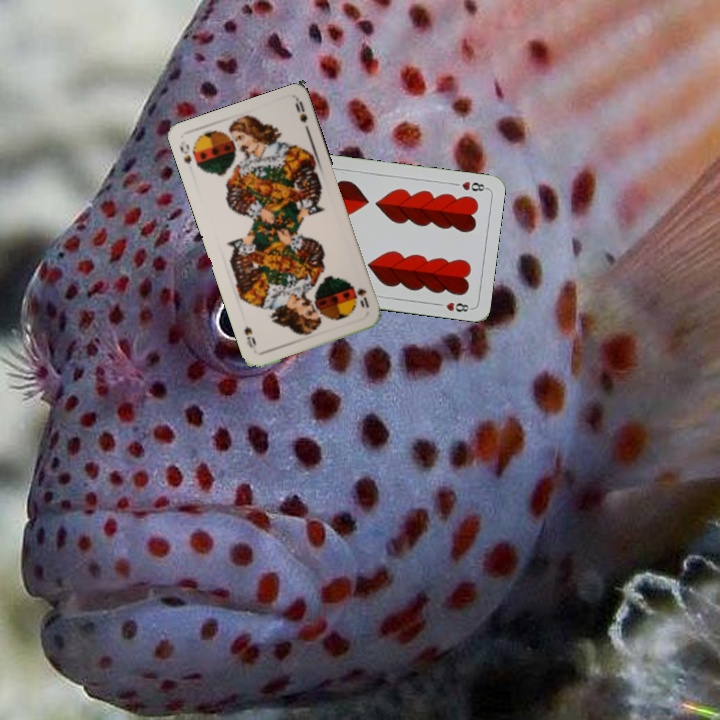H8: (458, 177, 489, 194)
SO: (349, 281, 372, 310), (176, 140, 194, 167)
